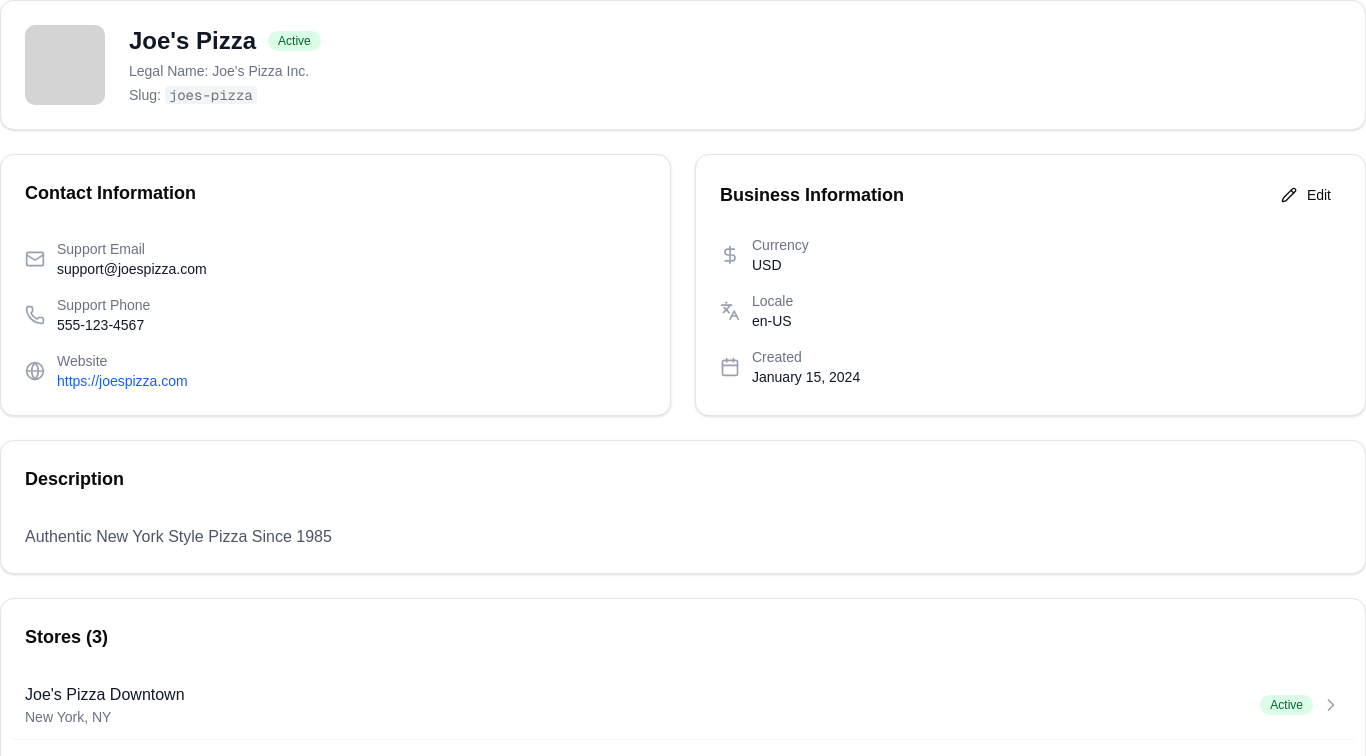
Test: TenantInfoCard › Edit Settings › should open settings modal when edit button is clicked
Click the button "Edit": (1306, 195) [1271,179,1341,211]
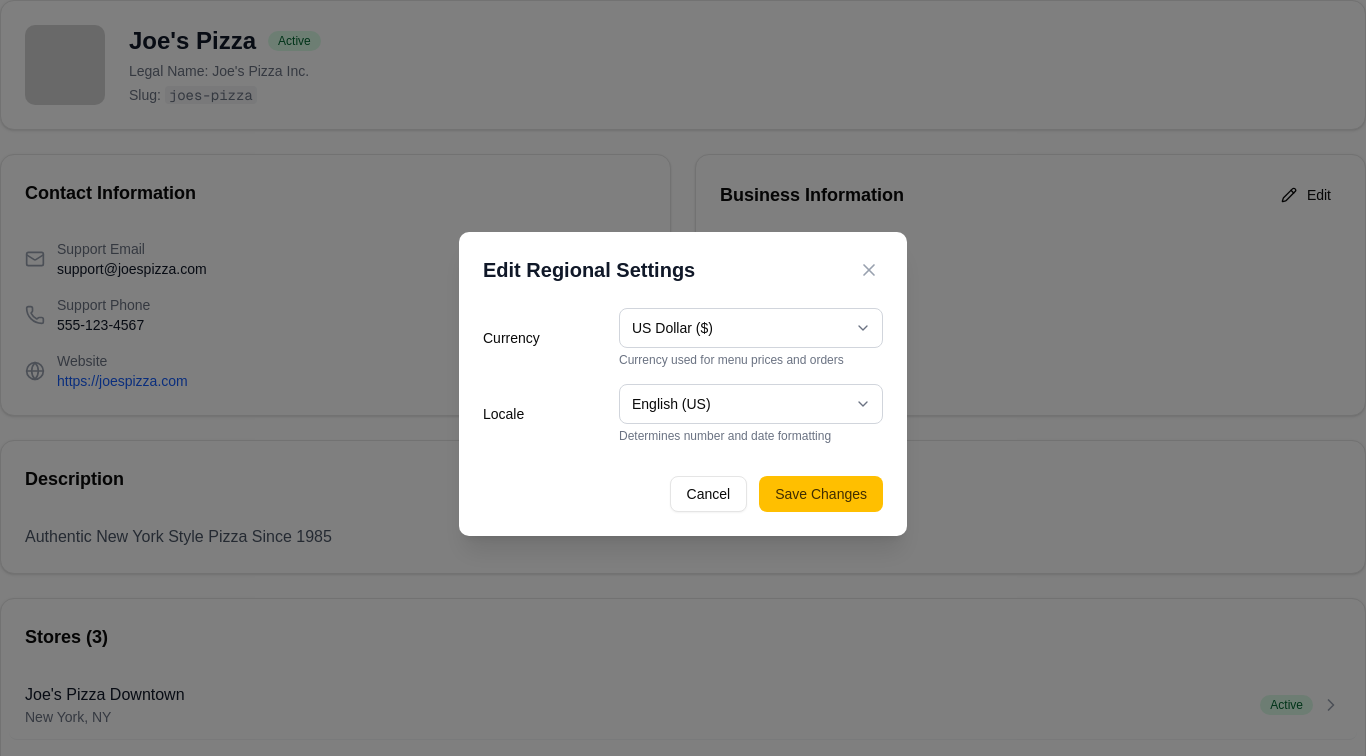
Check: the heading "Edit Regional Settings" is shown, box [483,256,695,284]
